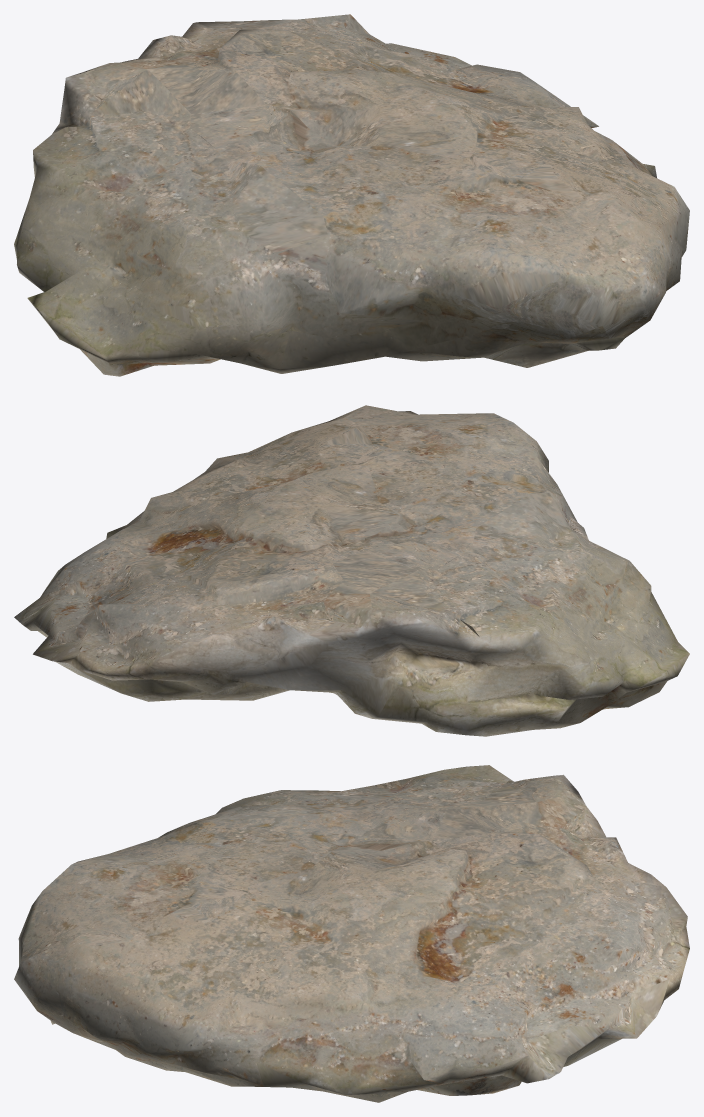
The model's file is SM_yigaaju_tier_2.gltf.
3 views of the same model, one above another, from view 1: azimuth 30°, elevation 25°; view 2: azimuth 150°, elevation 25°; view 3: azimuth 270°, elevation 25° (orthographic). The views are drawn at different scales.
Parts seen in each view (by area): view 1: yigaaju_LOD2_TIER2_000; view 2: yigaaju_LOD2_TIER2_000; view 3: yigaaju_LOD2_TIER2_000.
Part boxes in pixels (x1,y1,x2,y2): yigaaju_LOD2_TIER2_000: (14, 14, 689, 376); yigaaju_LOD2_TIER2_000: (14, 405, 689, 736); yigaaju_LOD2_TIER2_000: (14, 765, 689, 1102).
Size of the model in its own units: 0.1512 by 0.04 by 0.1569.
1 material, 1 textured.
